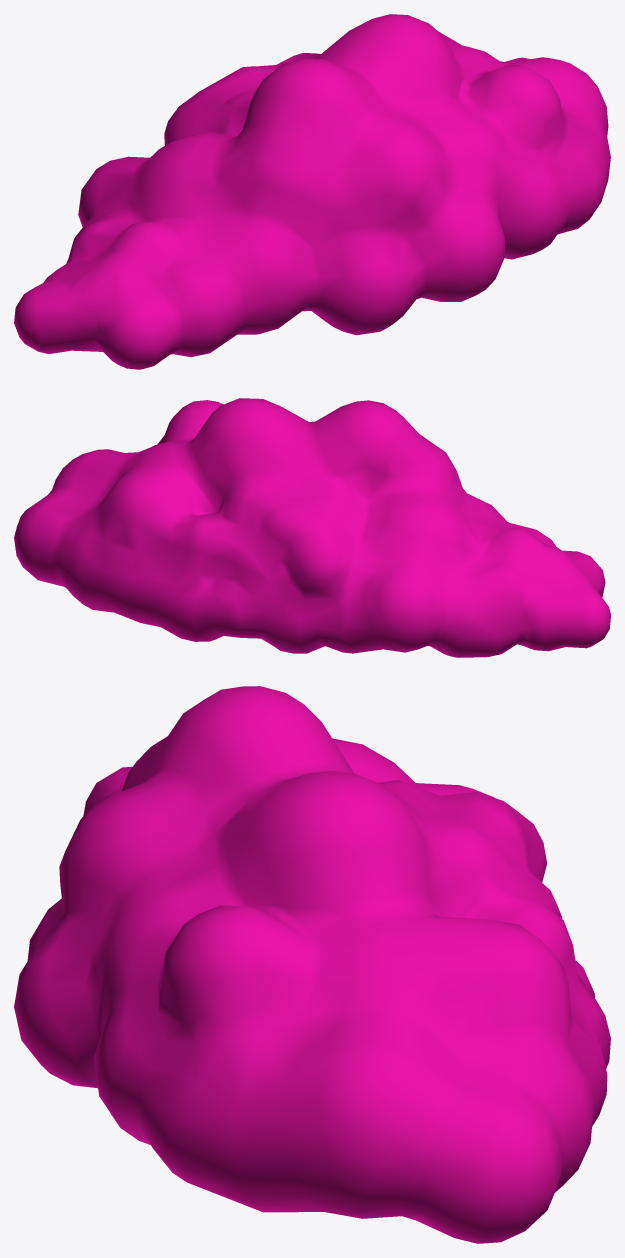
The model's file is Cloud 1.fbx.
3 views of the same model, one above another, from view 1: azimuth 30°, elevation 25°; view 2: azimuth 150°, elevation 25°; view 3: azimuth 270°, elevation 25° (orthographic). The views are drawn at different scales.
Parts seen in each view (by area): view 1: Mball.001; view 2: Mball.001; view 3: Mball.001.
Part boxes in pixels (x1,y1,x2,y2): Mball.001: [14, 14, 610, 369]; Mball.001: [14, 398, 610, 657]; Mball.001: [14, 686, 610, 1243].
Size of the model in its own units: 973 by 352 by 540.
